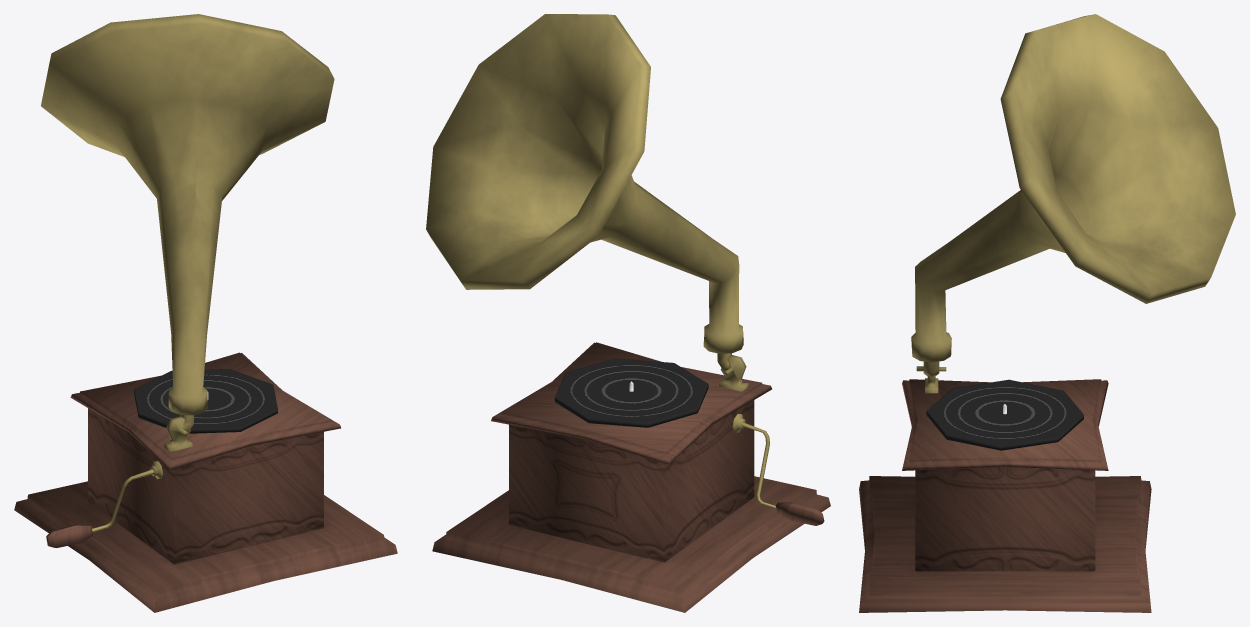
The model's file is Phonograph.fbx.
3 views of the same model, side by side, from view 1: azimuth 30°, elevation 25°; view 2: azimuth 150°, elevation 25°; view 3: azimuth 270°, elevation 25° (orthographic). The views are drawn at different scales.
Parts seen in each view (by area): view 1: Phonograph_reduced_version1:Mesh.004; view 2: Phonograph_reduced_version1:Mesh.004; view 3: Phonograph_reduced_version1:Mesh.004.
Boxes of the visible parts, x1,y1,x2,y2 form: Phonograph_reduced_version1:Mesh.004: (14,14,397,612); Phonograph_reduced_version1:Mesh.004: (426,14,830,612); Phonograph_reduced_version1:Mesh.004: (859,14,1235,612).
Size of the model in its own units: 41.42 by 61.59 by 40.04.
